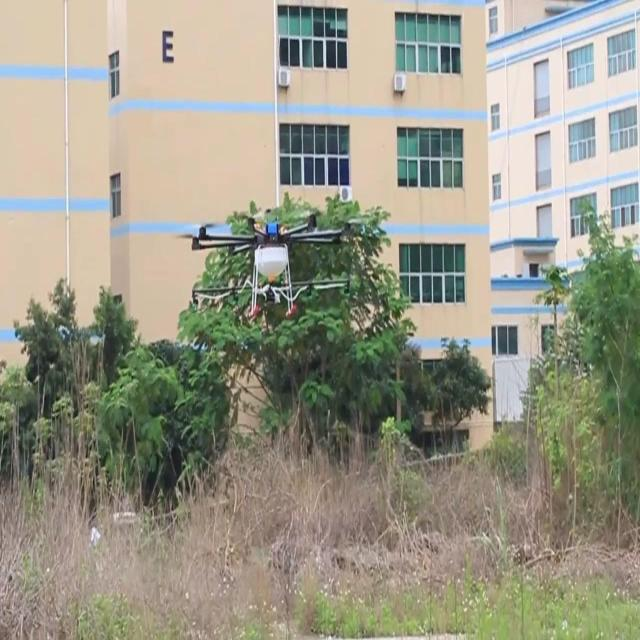drone: (164, 203, 374, 324)
